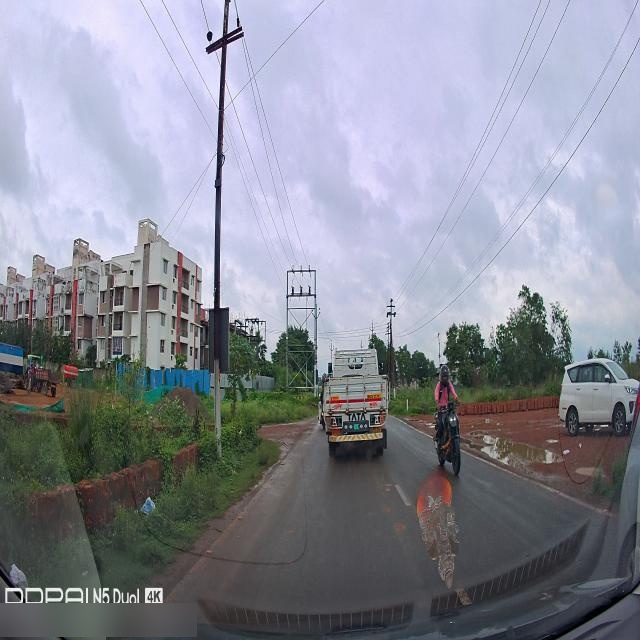pothole: (474, 426, 564, 472)
